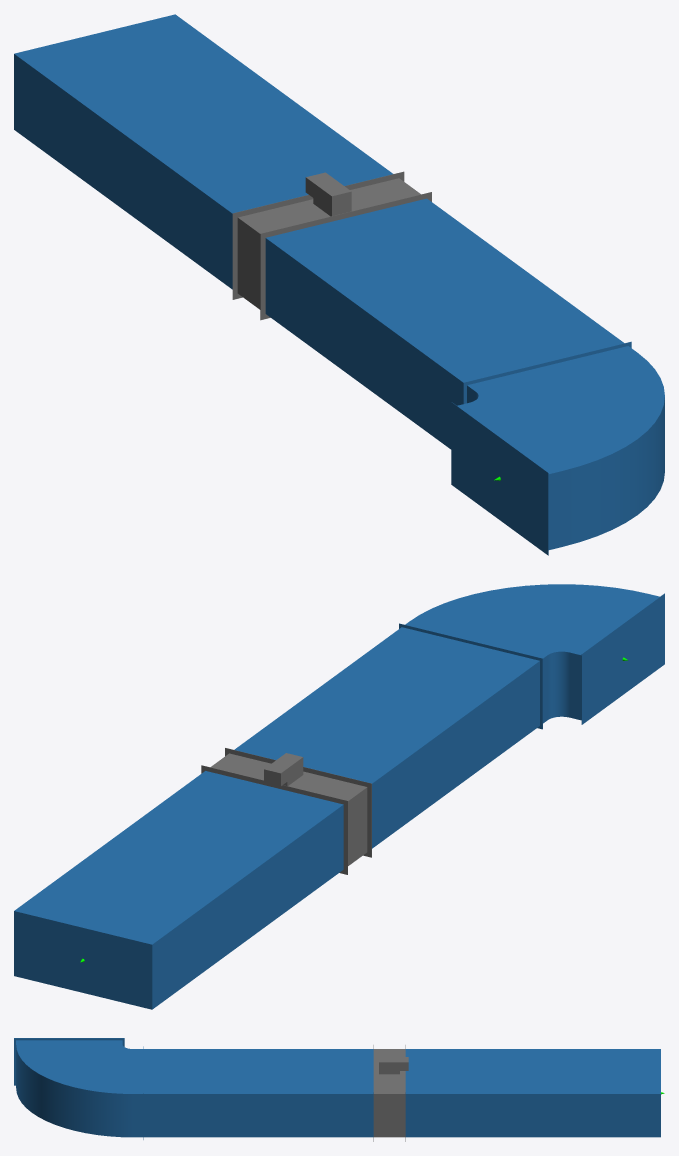
The model's file is Phase36 (2).fbx.
3 renders of one model, top to bottom at view 1: azimuth 30°, elevation 25°; view 2: azimuth 150°, elevation 25°; view 3: azimuth 270°, elevation 25°, orthographic. The views are drawn at different scales.
Parts seen in each view (by area): view 1: Воздуховод прямоугольного сечения:CPS_Оцинковка_Тройники_ГОС (×2), CPS_Отвод_Прямоугольный:Стандарт:537369, клапан взрывозащищенный квадрат:Сигмавент-120-НЗ(КОМ):536047; view 2: Воздуховод прямоугольного сечения:CPS_Оцинковка_Тройники_ГОС (×2), CPS_Отвод_Прямоугольный:Стандарт:537369, клапан взрывозащищенный квадрат:Сигмавент-120-НЗ(КОМ):536047; view 3: Воздуховод прямоугольного сечения:CPS_Оцинковка_Тройники_ГОС (×2), CPS_Отвод_Прямоугольный:Стандарт:537369, клапан взрывозащищенный квадрат:Сигмавент-120-НЗ(КОМ):536047.
Part boxes in pixels (box(x1,y1,x2,y2)): Воздуховод прямоугольного сечения:CPS_Оцинковка_Тройники_ГОС (×2): box(14, 14, 624, 449); CPS_Отвод_Прямоугольный:Стандарт:537369: box(451, 341, 664, 555); клапан взрывозащищенный квадрат:Сигмавент-120-НЗ(КОМ):536047: box(232, 171, 431, 320); Воздуховод прямоугольного сечения:CPS_Оцинковка_Тройники_ГОС (×2): box(14, 627, 539, 1009); CPS_Отвод_Прямоугольный:Стандарт:537369: box(399, 584, 664, 729); клапан взрывозащищенный квадрат:Сигмавент-120-НЗ(КОМ):536047: box(201, 748, 371, 874); Воздуховод прямоугольного сечения:CPS_Оцинковка_Тройники_ГОС (×2): box(144, 1049, 660, 1137); CPS_Отвод_Прямоугольный:Стандарт:537369: box(14, 1038, 143, 1139); клапан взрывозащищенный квадрат:Сигмавент-120-НЗ(КОМ):536047: box(373, 1045, 408, 1141).
Bounding box in the file's own units: 1268 × 6117 × 605.
